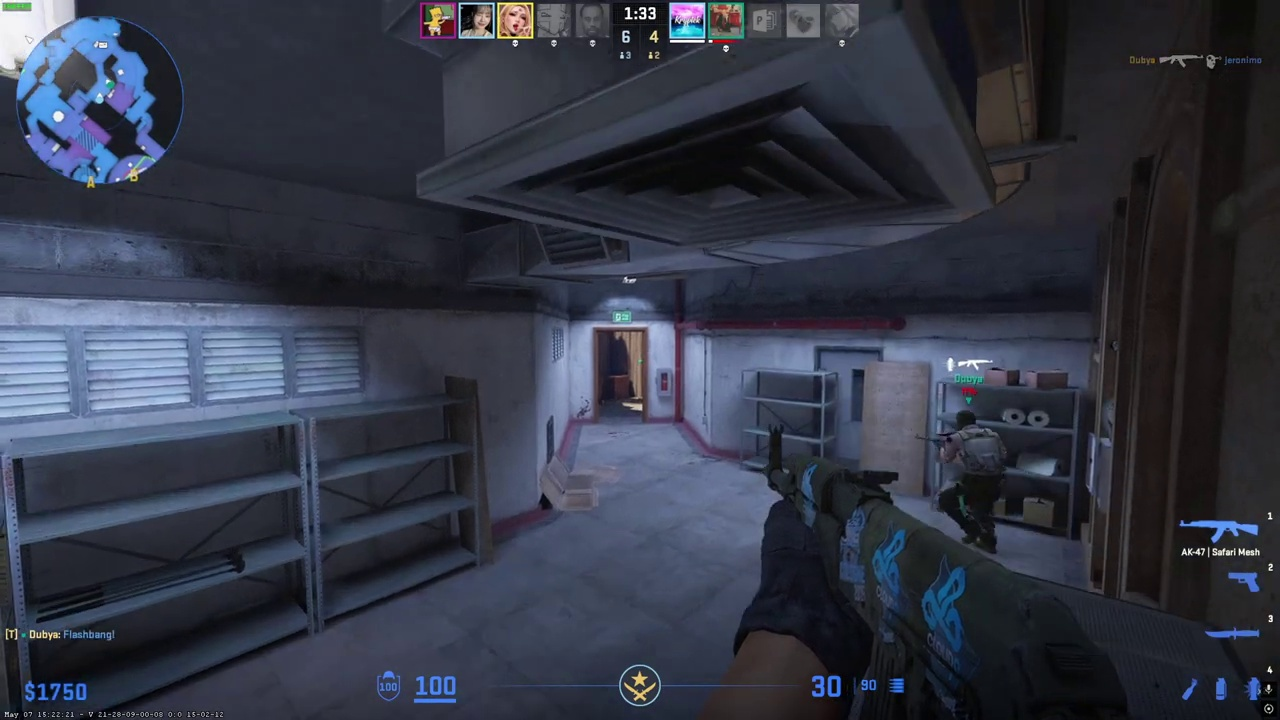Terrorist: (936, 410, 1007, 555)
